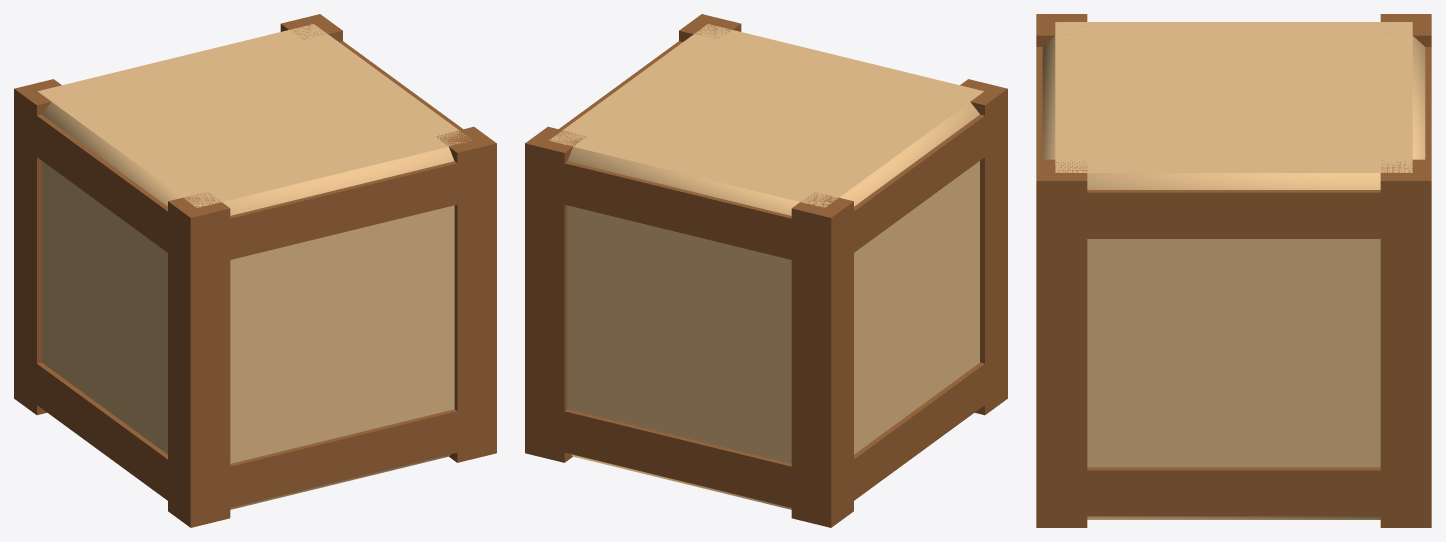
The model's file is crate.fbx.
3 renders of one model, left to right at view 1: azimuth 30°, elevation 25°; view 2: azimuth 150°, elevation 25°; view 3: azimuth 270°, elevation 25°, orthographic. The views are drawn at different scales.
Visible parts, largest first — view 1: crate; view 2: crate; view 3: crate.
Part boxes in pixels (box(x1,y1,x2,y2)): crate: box(14, 14, 496, 527); crate: box(525, 14, 1007, 527); crate: box(1036, 14, 1431, 527).
Bounding box in the file's own units: 0.31 × 0.3 × 0.31.
